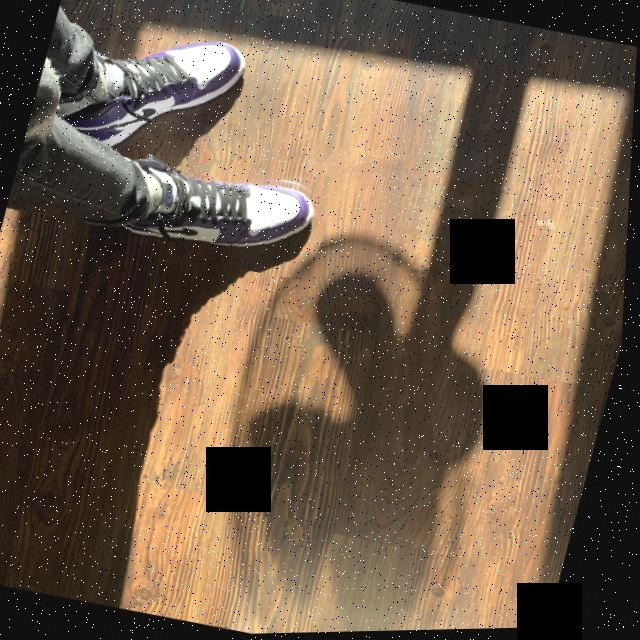shoe: (47, 4, 263, 183), (88, 137, 340, 288)
